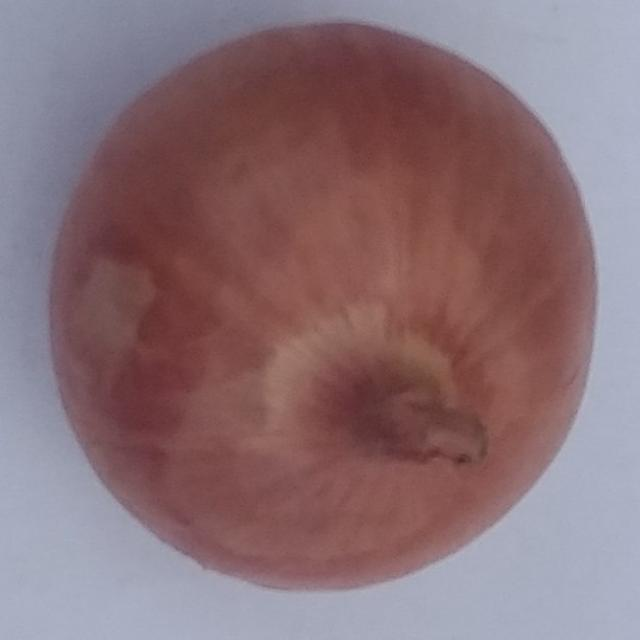onion: (42, 12, 602, 600)
